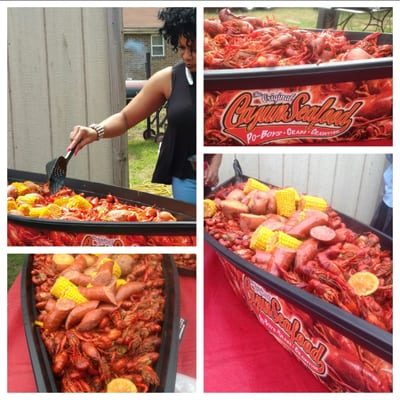sandwich: (30, 253, 171, 391), (8, 182, 177, 224)
